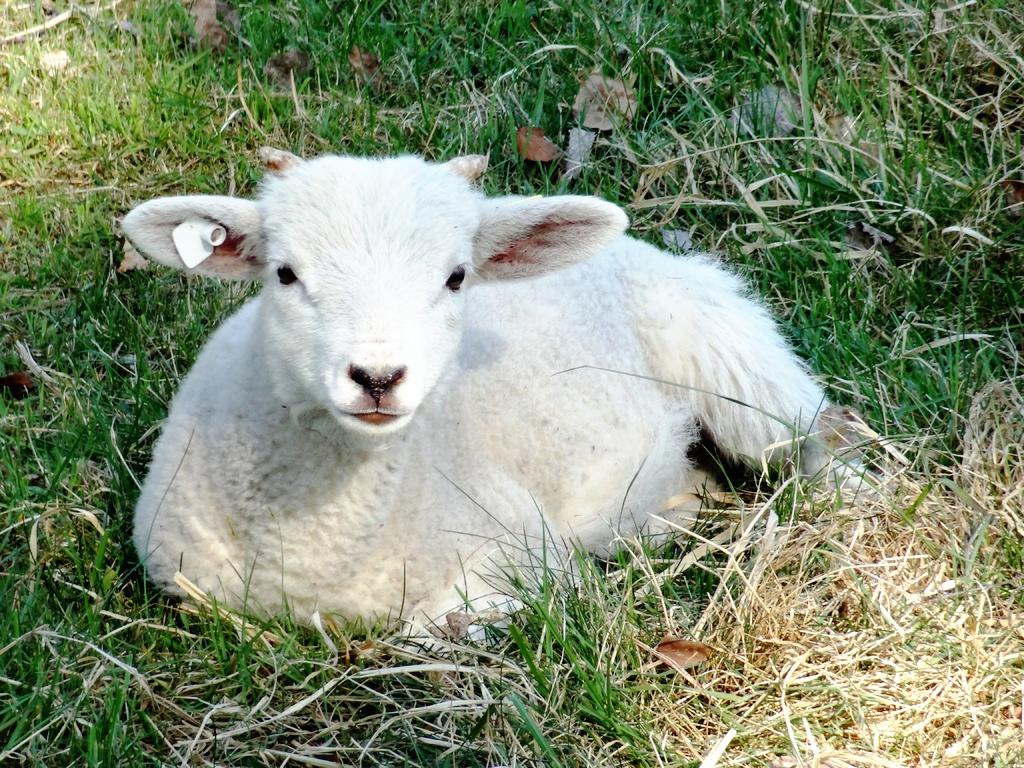Sheep: (118, 144, 868, 645)
